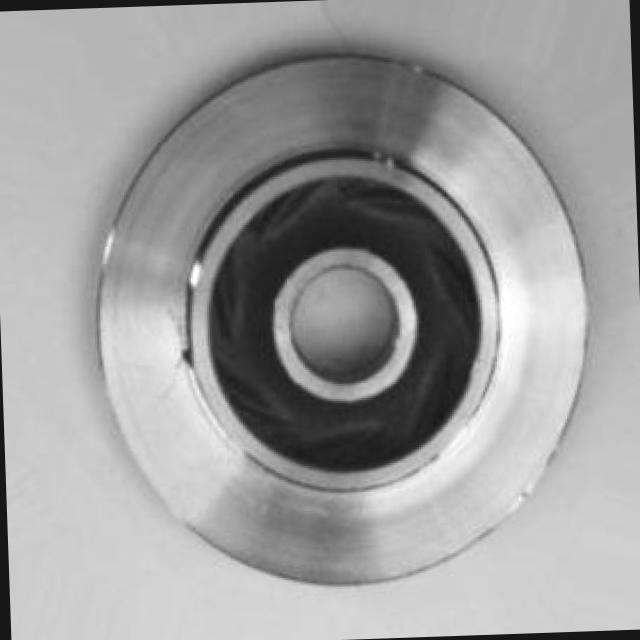Defect: (170, 338, 208, 379)
